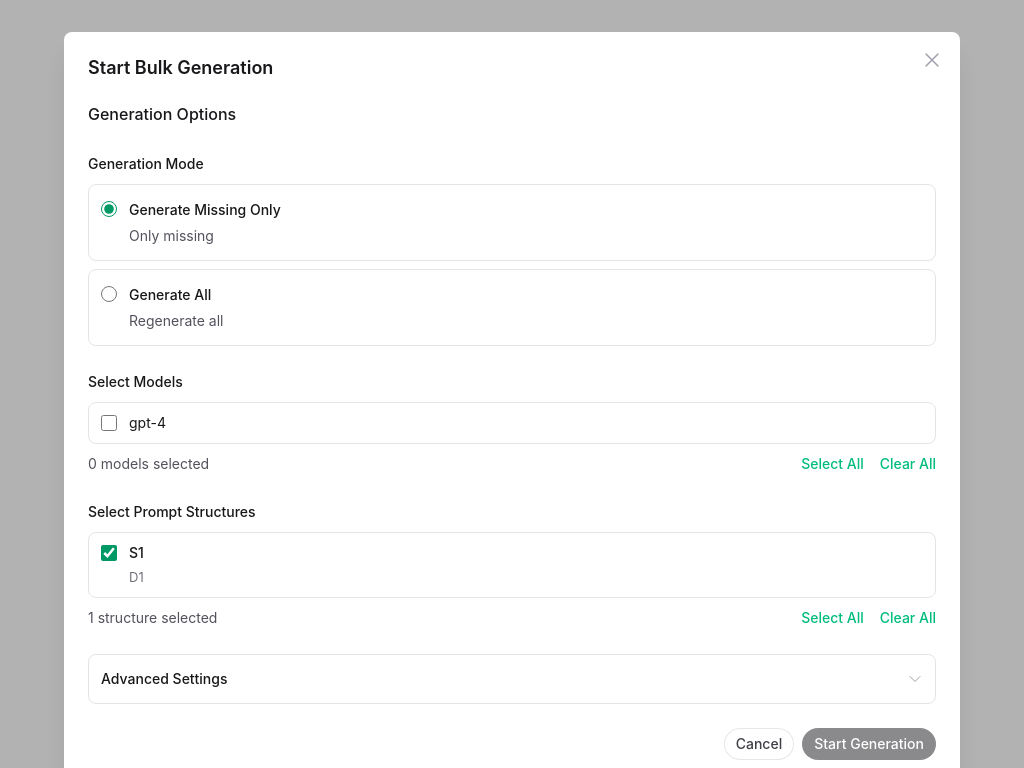
Scenario: GenerationControlModal branch coverage › shows singular generation count
The image size is (1024, 768).
Click the checkbox labelled "gpt-4".
click(109, 423)  # box [101,415,117,431]
(page scrolled)
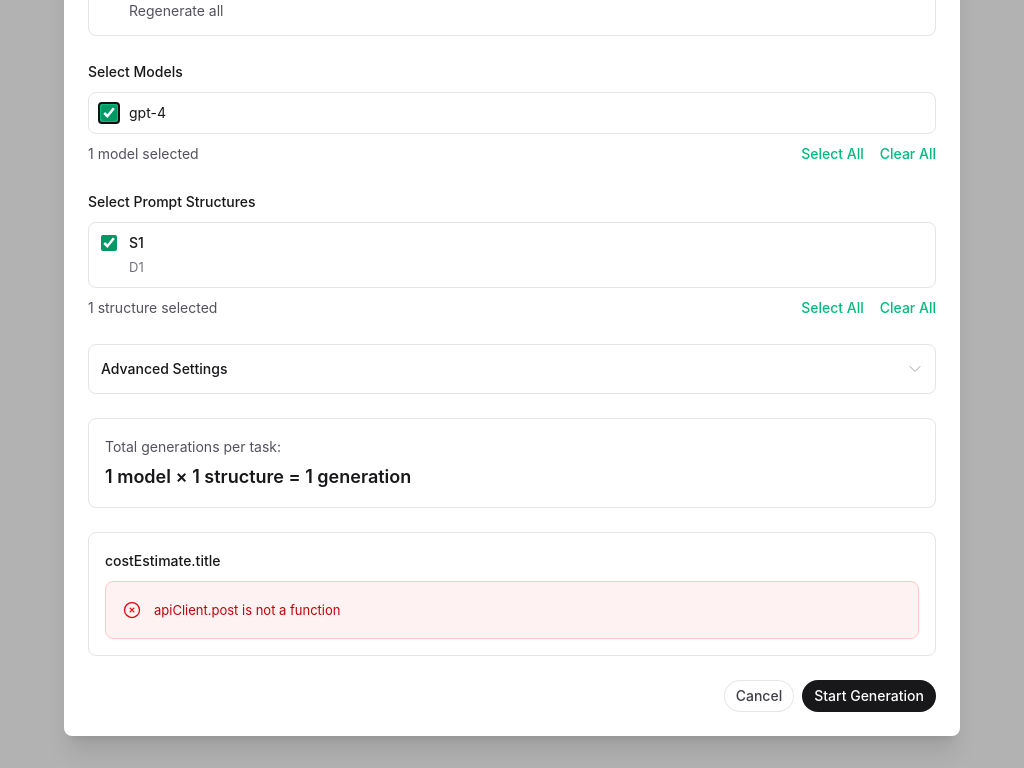
Expected: the checkbox labelled "S1 D1" is checked, [101,235,117,251]
Now the text "1 model selected" is shown, box [88,142,199,166]
Now the text "1 model × 1 structure = 1 generation" is shown, box [105,466,411,487]
